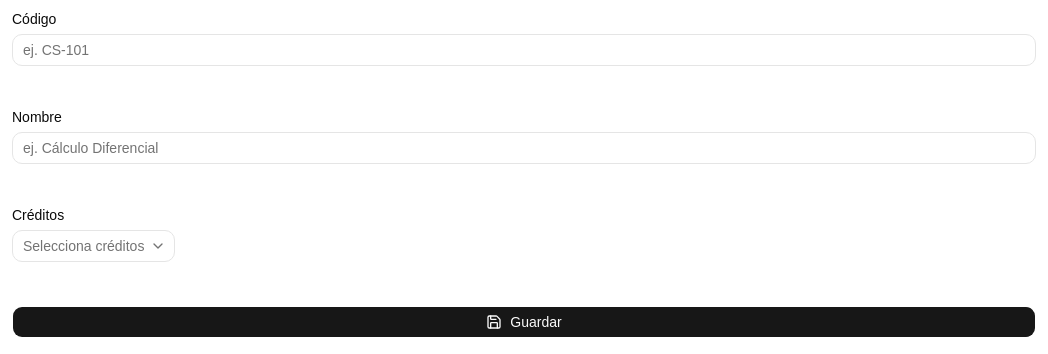
Test case: CourseForm › shows inline error on blur when code is empty
Click the field labelled "Código" at (524, 50), box [12,34,1036,66]
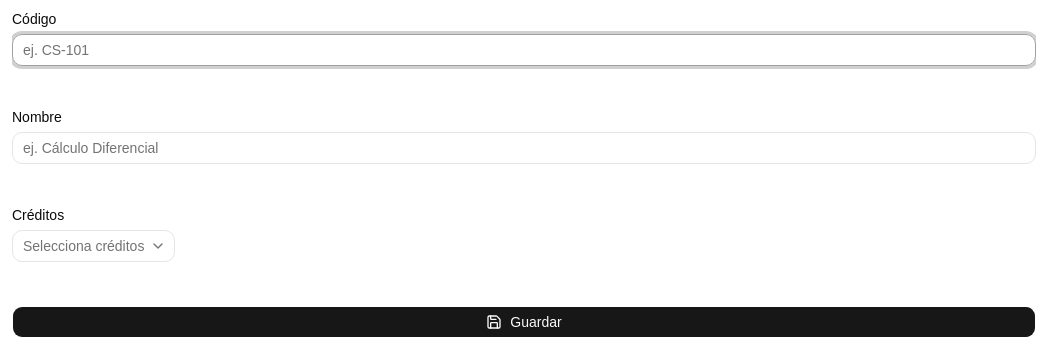
Press Tab
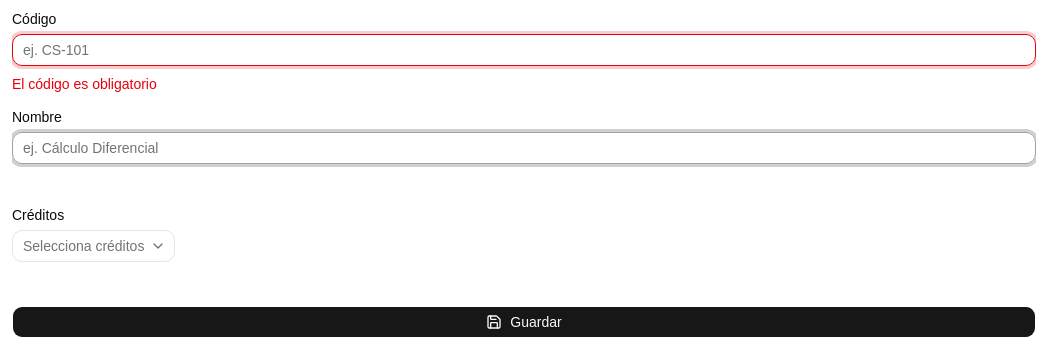
expect the text "El código es obligatorio" is shown: met, box [12,76,157,92]
